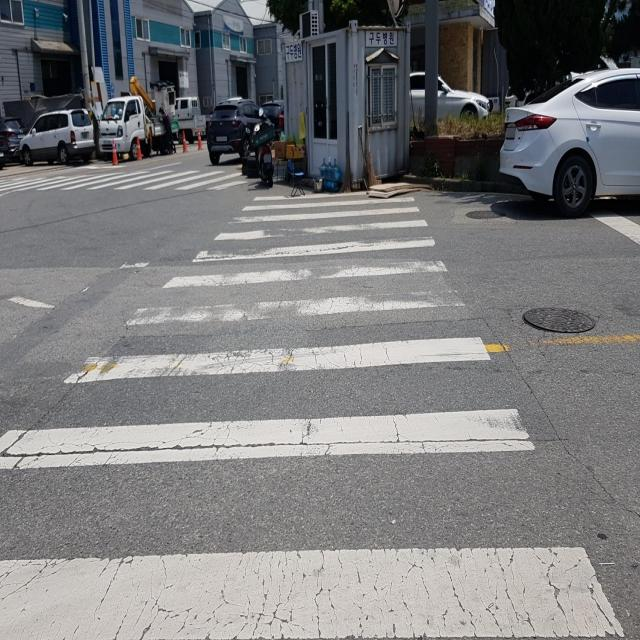횡단보도: (0, 183, 629, 639), (0, 167, 257, 194)
